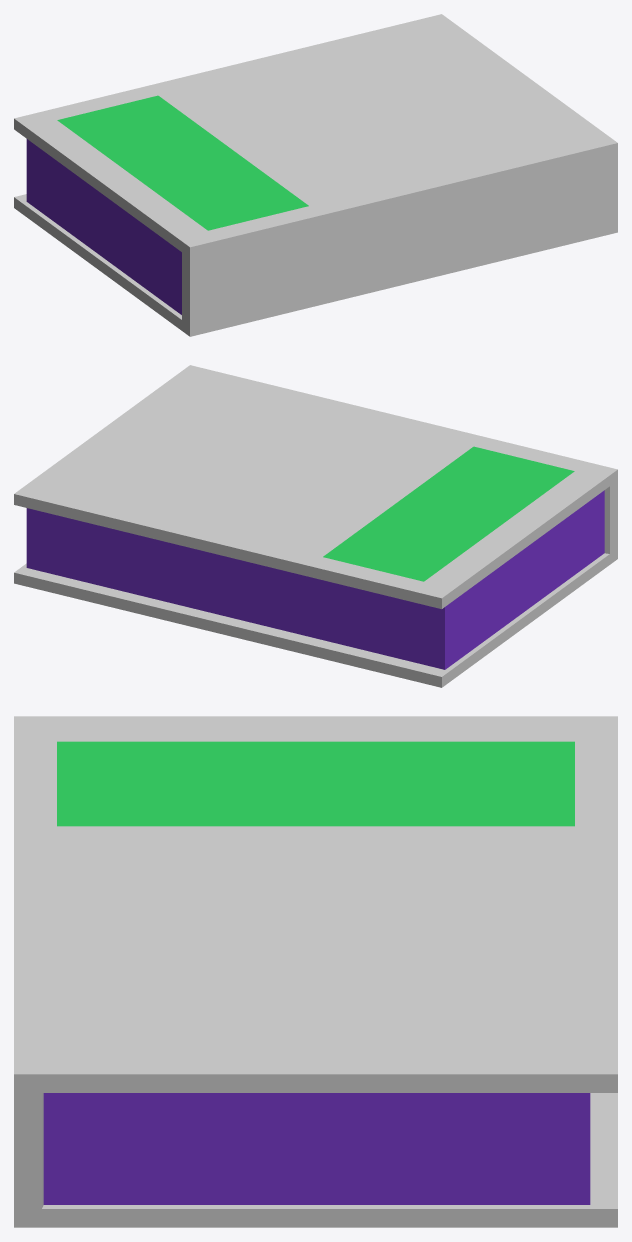
Rendered from book.fbx.
3 views of the same model, one above another, from view 1: azimuth 30°, elevation 25°; view 2: azimuth 150°, elevation 25°; view 3: azimuth 270°, elevation 25° (orthographic). The views are drawn at different scales.
Visible parts, largest first — view 1: Cube; view 2: Cube; view 3: Cube.
Part boxes in pixels (x1,y1,x2,y2): Cube: [14, 14, 617, 336]; Cube: [14, 365, 617, 687]; Cube: [14, 716, 617, 1227].
Bounding box in the file's own units: 281 × 56.1 × 200.
